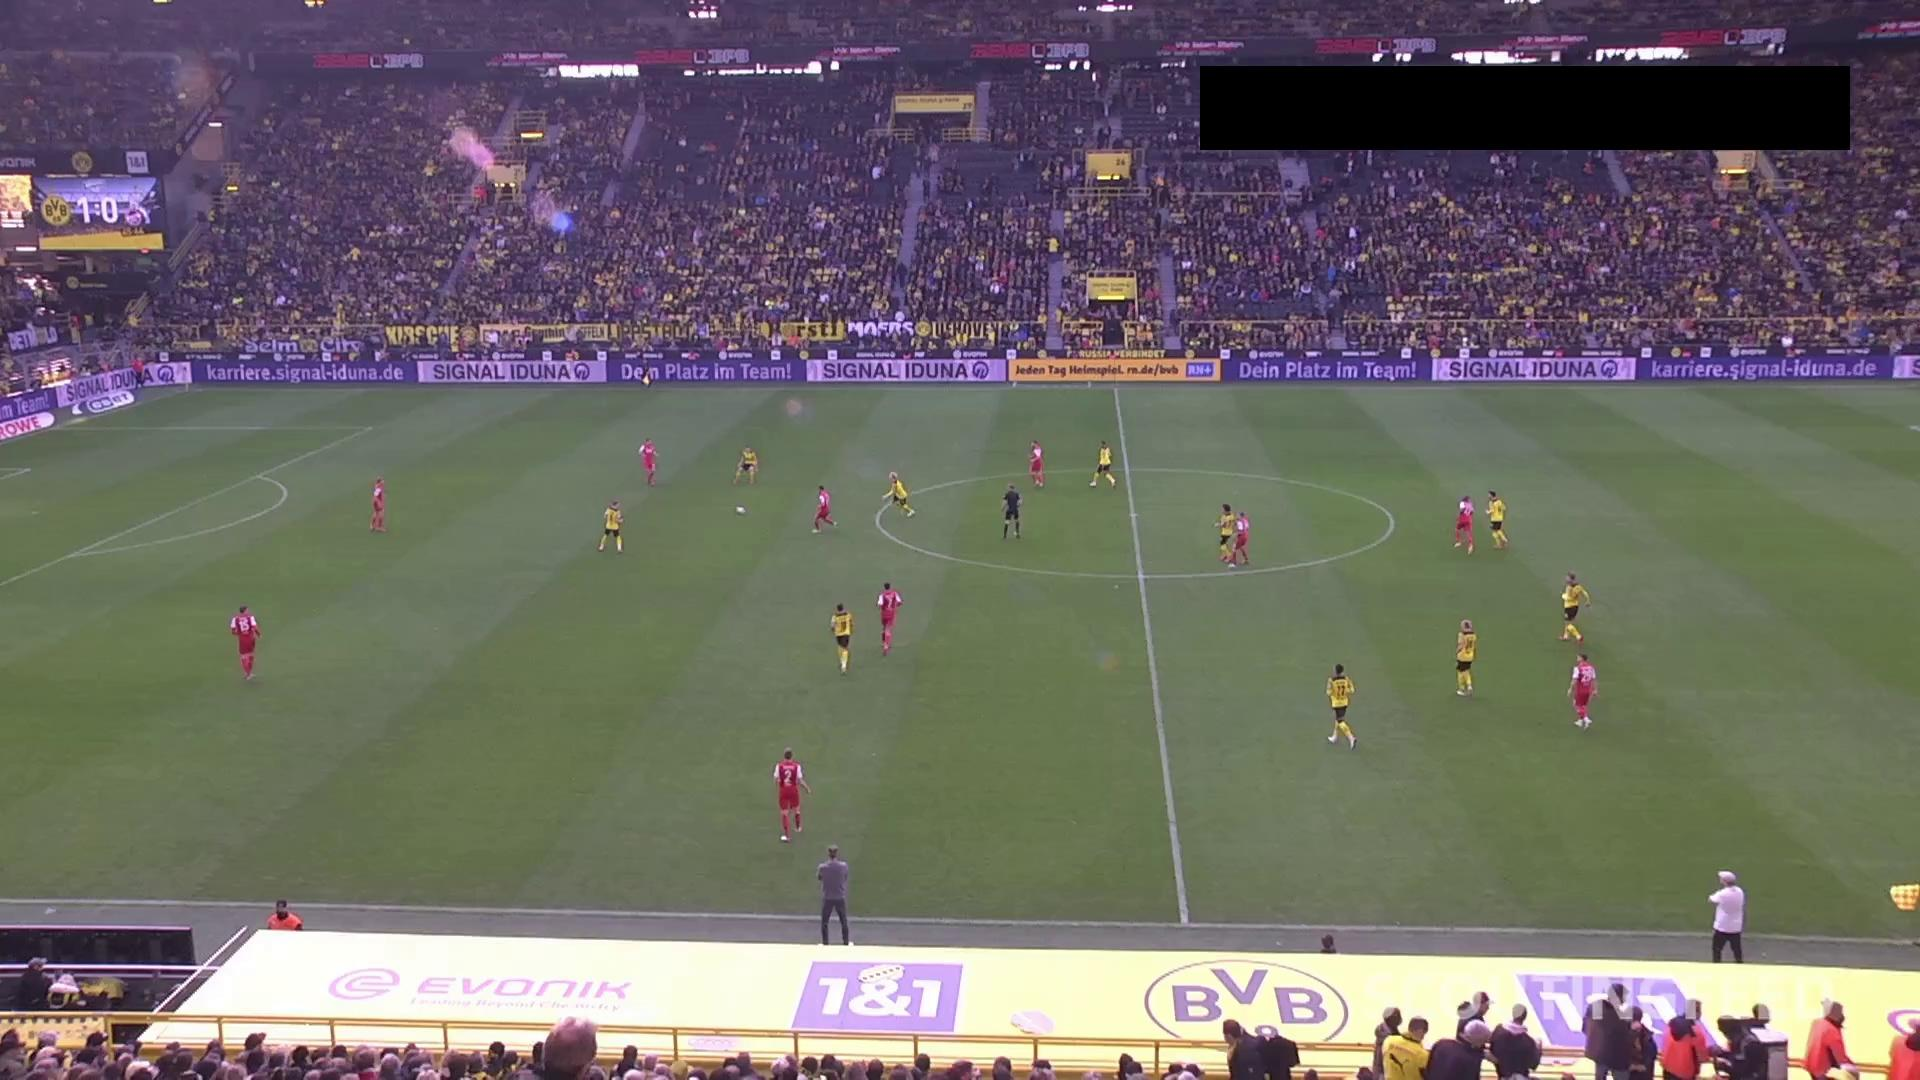Location-of-ball: (729, 497, 754, 518)
